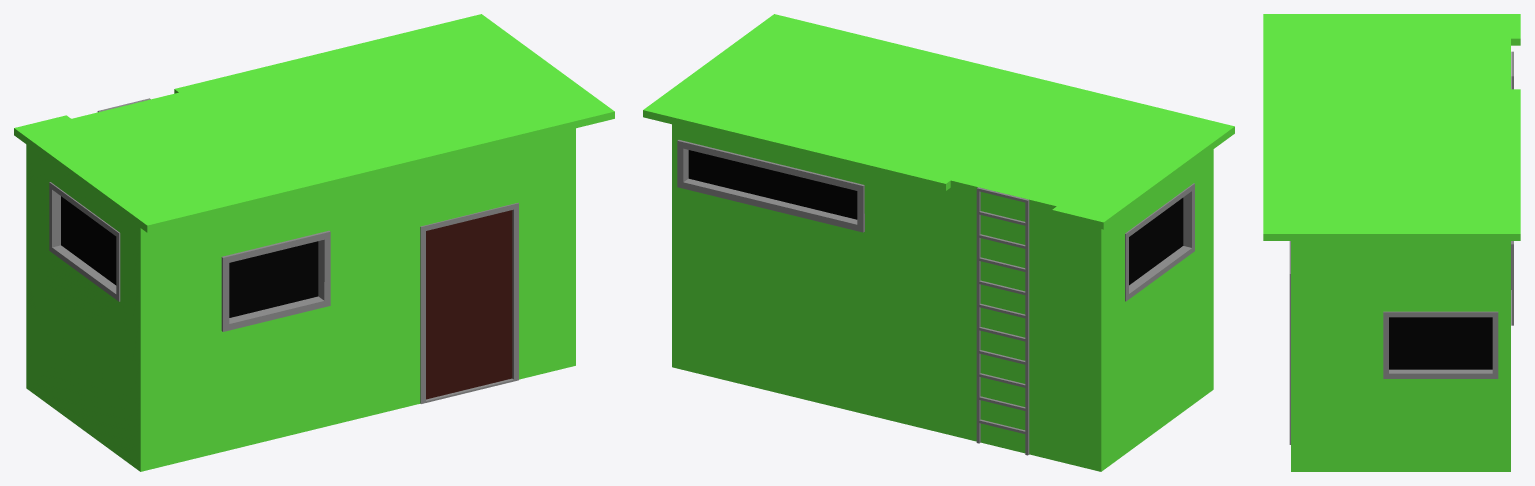
File: Shack 2x1.FBX
3 views of the same model, side by side, from view 1: azimuth 30°, elevation 25°; view 2: azimuth 150°, elevation 25°; view 3: azimuth 270°, elevation 25° (orthographic). The views are drawn at different scales.
Visible parts, largest first — view 1: Shack 2x1; view 2: Shack 2x1, Ladder; view 3: Shack 2x1.
Boxes of the visible parts, <box> form: Shack 2x1: <box>14,14,614,471</box>; Shack 2x1: <box>643,14,1234,471</box>; Ladder: <box>976,187,1029,455</box>; Shack 2x1: <box>1263,14,1520,471</box>.
Size of the model in its own units: 189 by 100 by 93.39.
